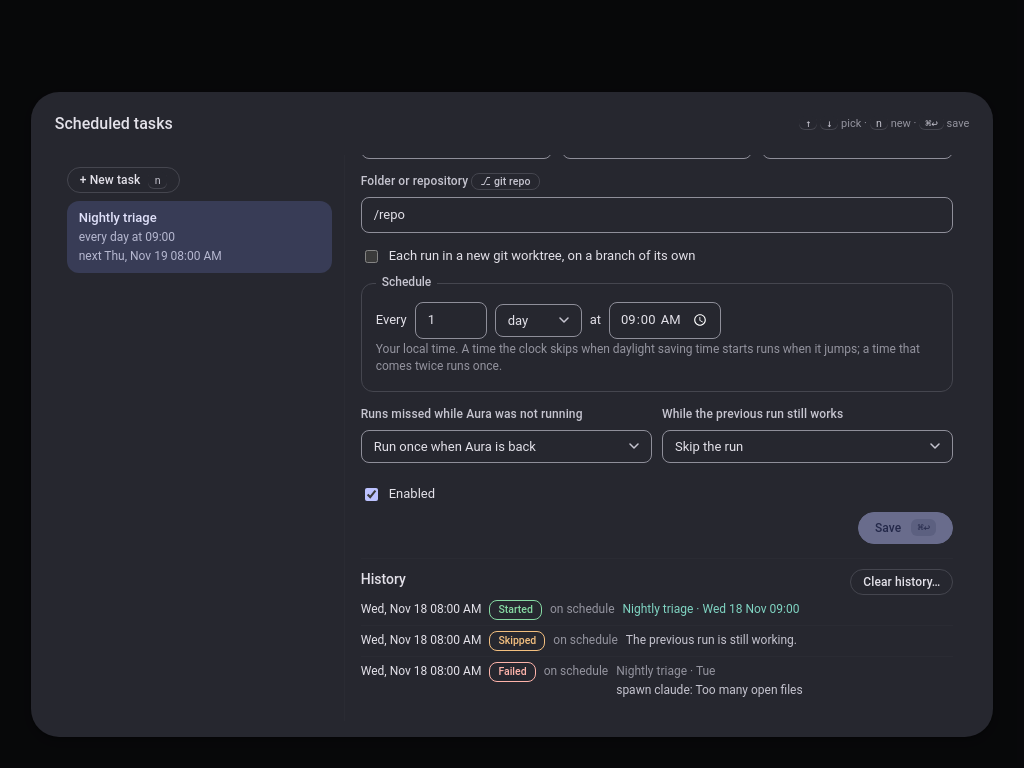
it: the scheduled tasks window › clears only the failed and skipped entries of the history, or all of it
(page scrolled)
Expected: the text "Skipped" is shown, [489,631,545,651]
Expected: the text titled "The session was deleted" reads "Nightly triage · Tue", [616,664,716,678]
Click the button "Clear history…". click: (902, 582)
box: [850,569,953,595]
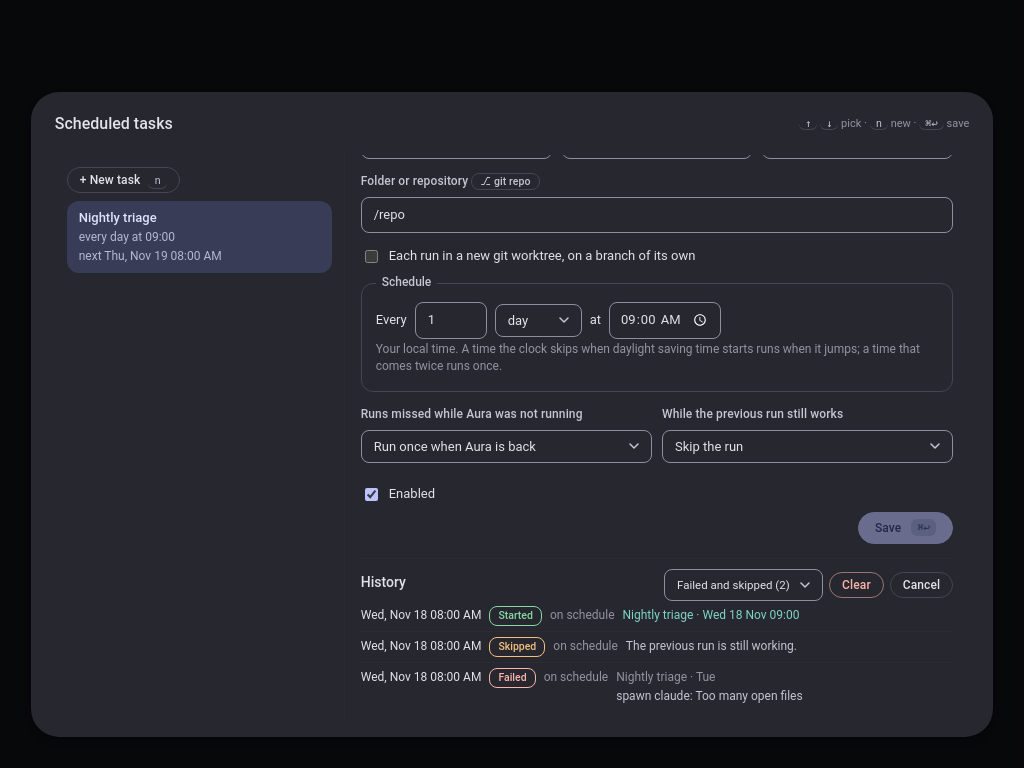
Result: the dropdown named "Entries to clear" shows "Failed and skipped (2)" at [664,569,823,601]
Click the button "Clear". click: (856, 585)
box: [829,572,884,598]
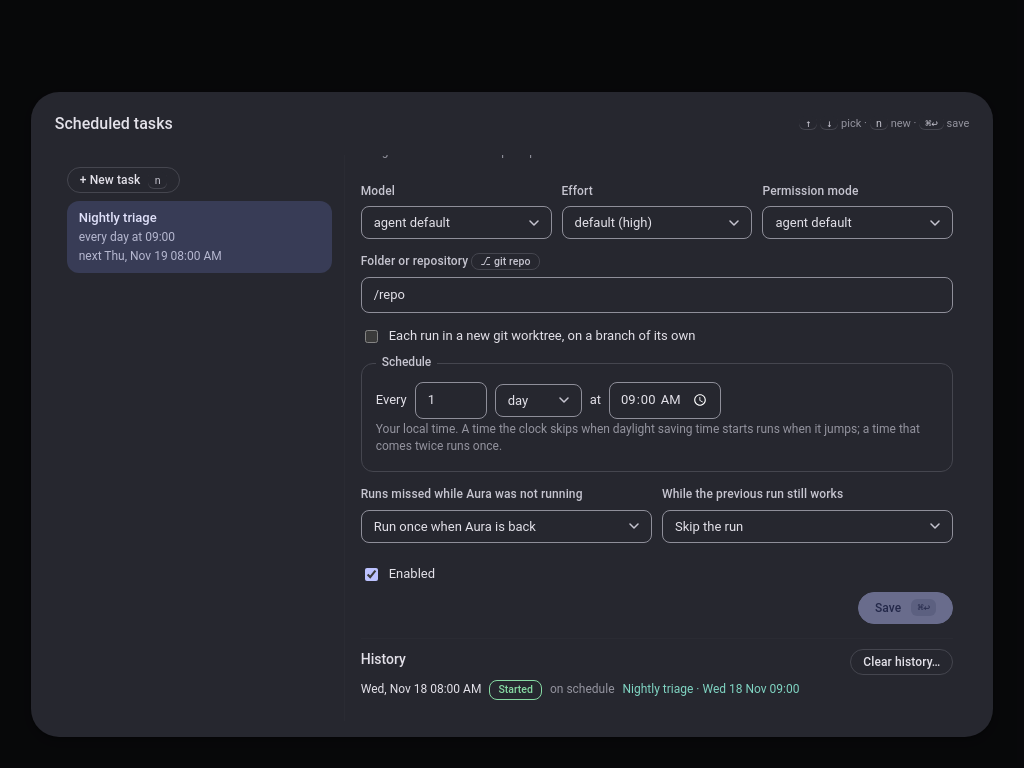
Expected: the text "Started" is shown, [489,680,542,700]
Result: the text "Skipped" is gone
Click the button "Clear history…". click: (902, 662)
box: [850,649,953,675]
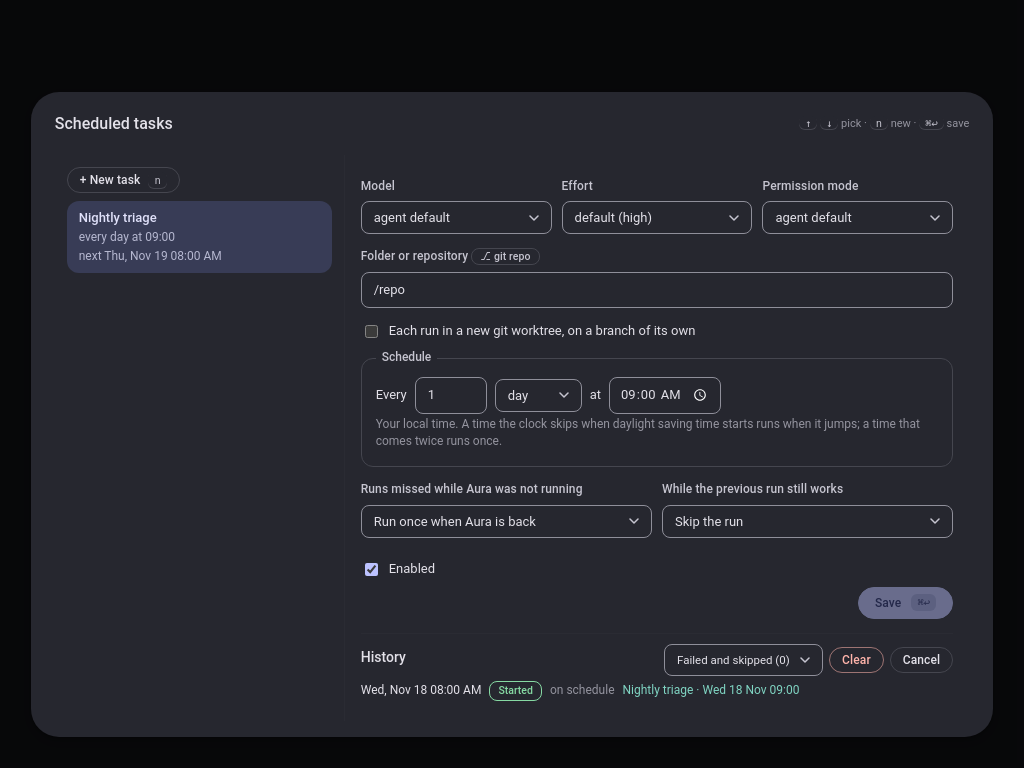
Select "All entries (1)" in the dropdown named "Entries to clear". click: (744, 660)
box: [664,644,823,676]
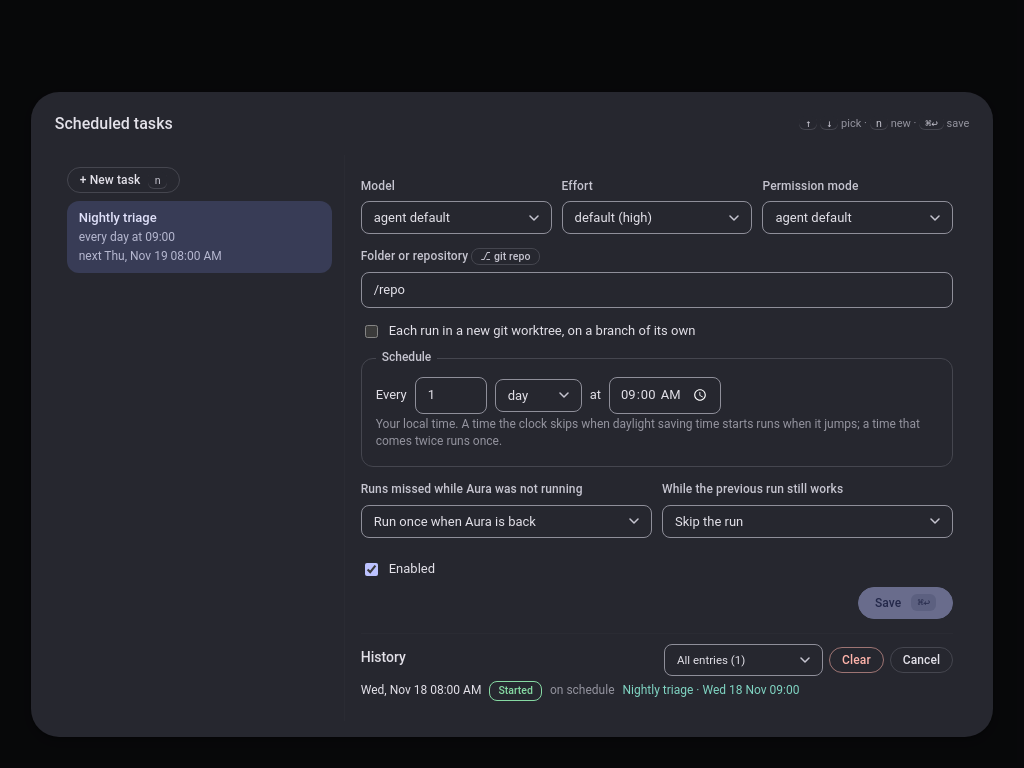
Click the button "Clear". click: (856, 660)
box: [829,647,884,673]
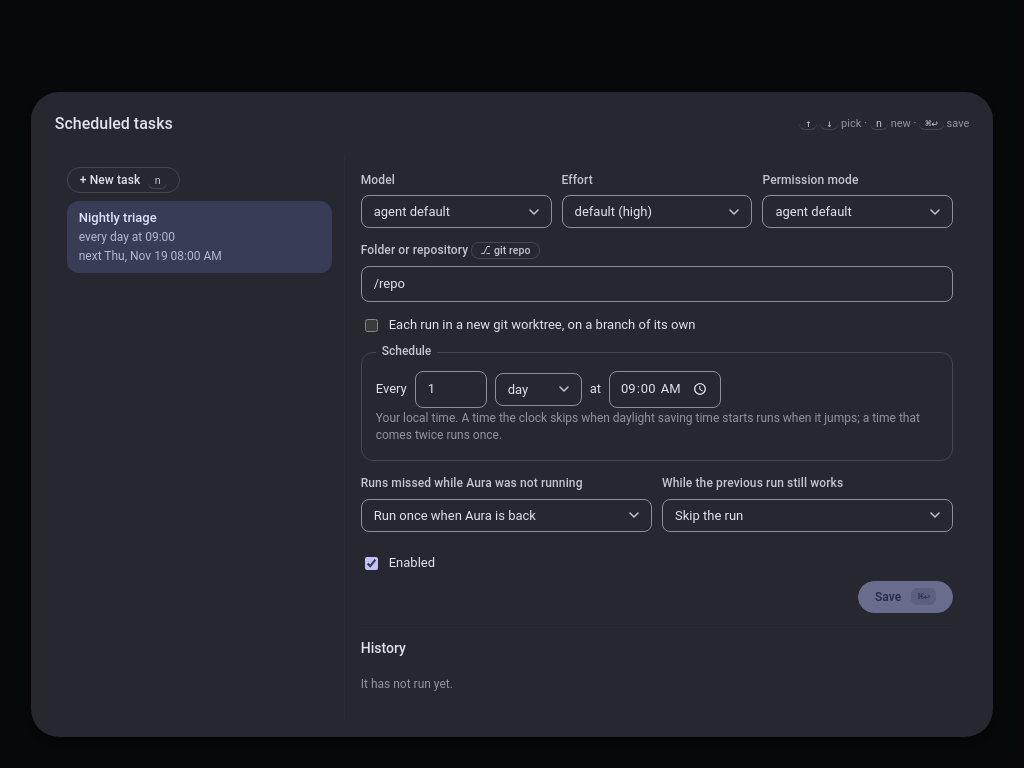
Expected: the button "Clear history…" is not shown
Result: the text "It has not run yet." is shown at [361,677,453,691]
